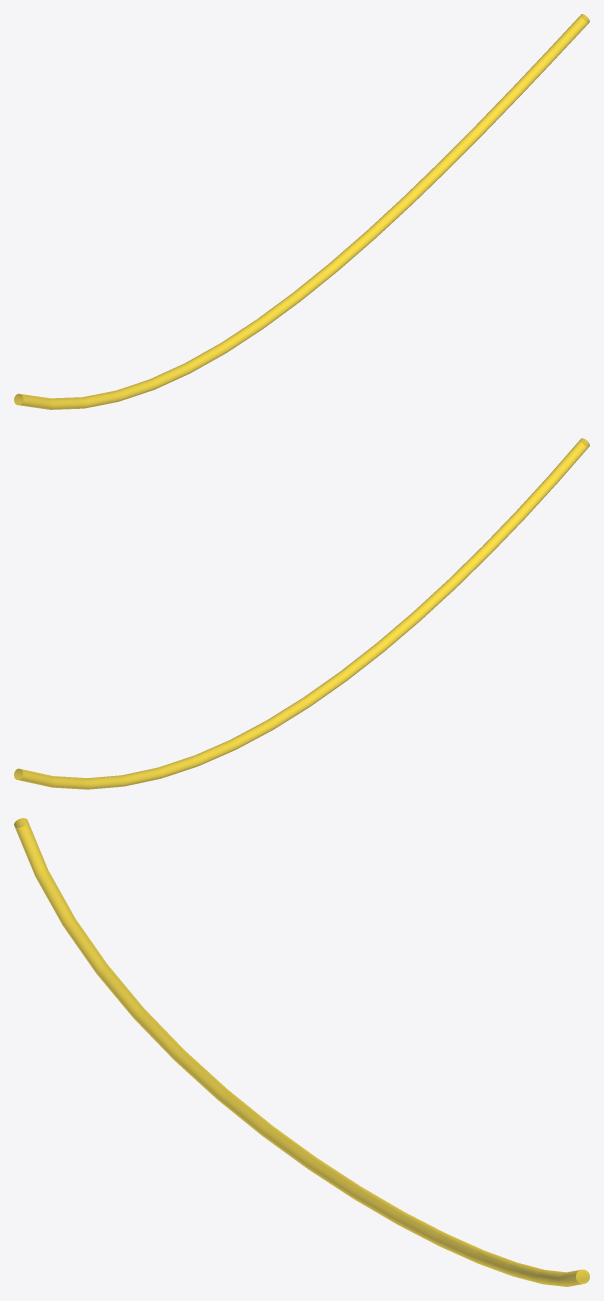
Rendered from Event_27938768_track_25.fbx.
The picture shows the model from 3 angles, top to bottom: view 1: azimuth 30°, elevation 25°; view 2: azimuth 210°, elevation 25°; view 3: azimuth 270°, elevation 25°; orthographic projection. The views are drawn at different scales.
Visible parts, largest first — view 1: Model; view 2: Model; view 3: Model.
Boxes of the visible parts, x1,y1,x2,y2 form: Model: (14,14,589,409); Model: (14,438,589,789); Model: (14,818,589,1286).
Size of the model in its own units: 3.17 by 0.4329 by 1.58.
